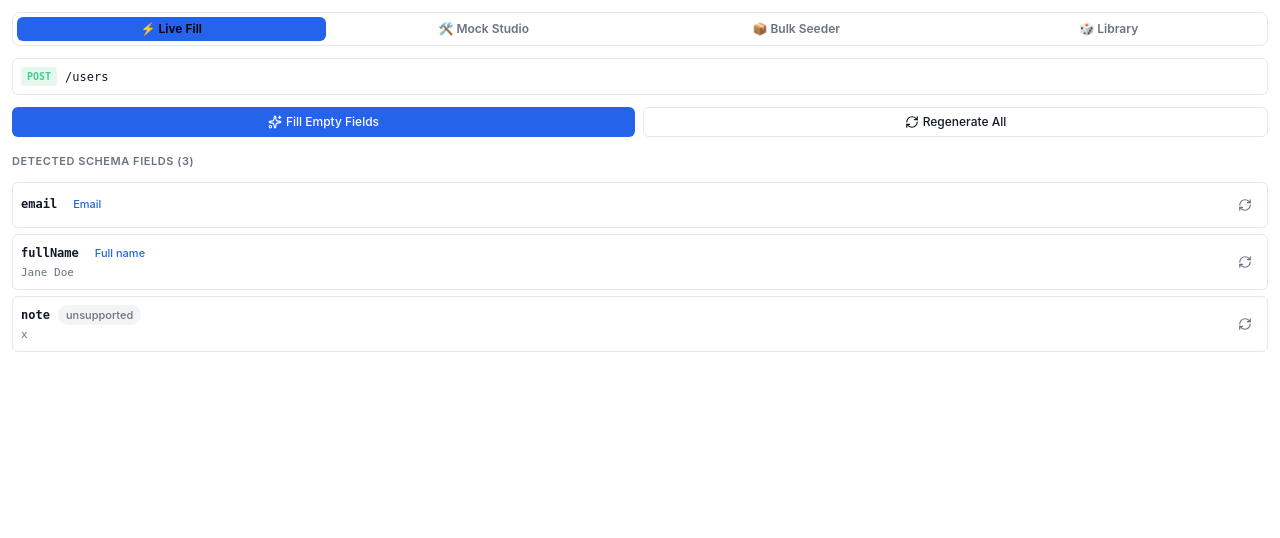
Scenario: FakeDataPanel › switches between sub-tabs cleanly
Click the button "🛠️ Mock Studio" at (484, 29), box [330,17,638,41]
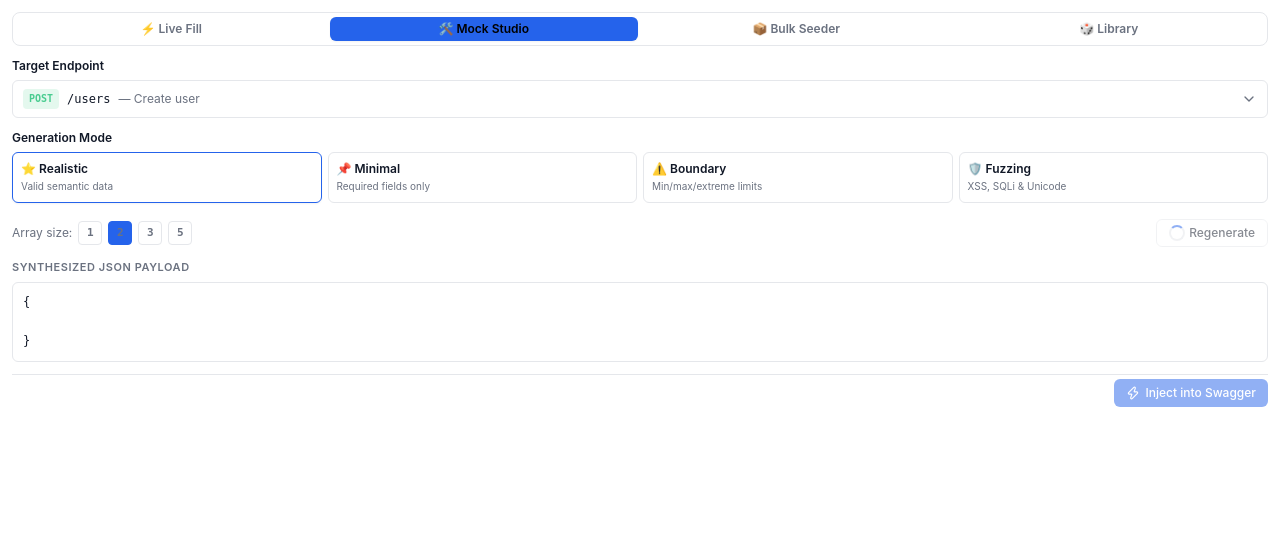
expect the text "Generation Mode" is shown: met, box [12,130,112,145]
expect the text "Synthesized JSON Payload" is shown: met, box [12,259,190,276]
Switch to Bulk Seeder
Click the button "📦 Bulk Seeder" at (796, 29), box [642,17,950,41]
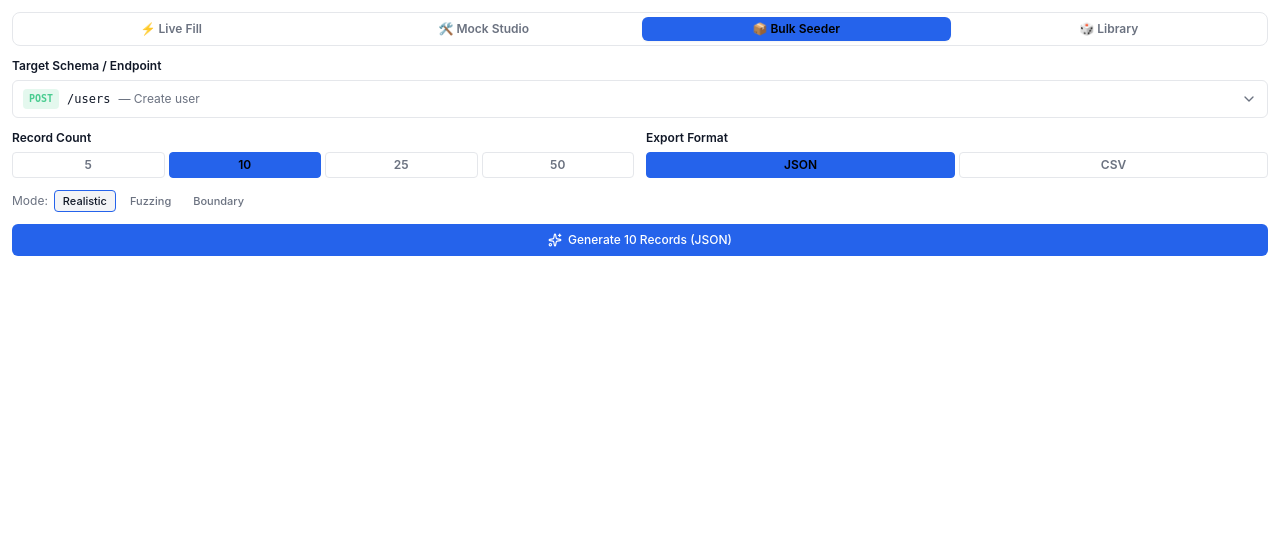
expect the text "Target Schema / Endpoint" is shown: met, box [12,58,161,73]
expect the text "Generate 10 Records (JSON)" is shown: met, box [568,232,732,248]
Switch to Library
Click the button "🎲 Library" at (1109, 29), box [954,17,1263,41]
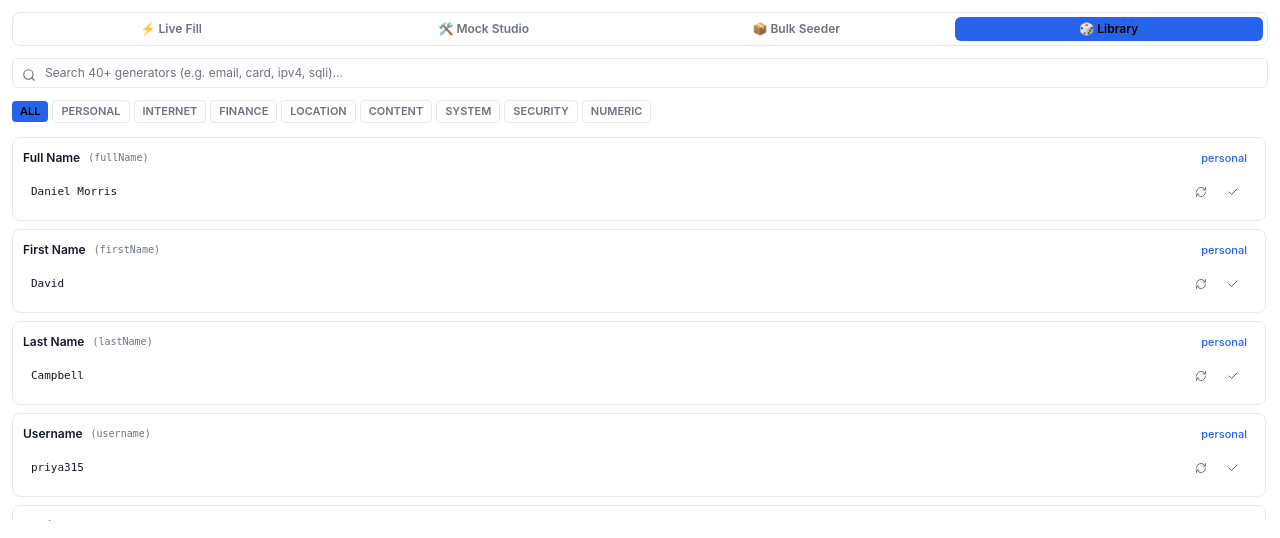
expect the field with placeholder "Search 40+ generators (e.g. email, card, ipv4, sqli)…" is shown: met, box [12,58,1268,88]
